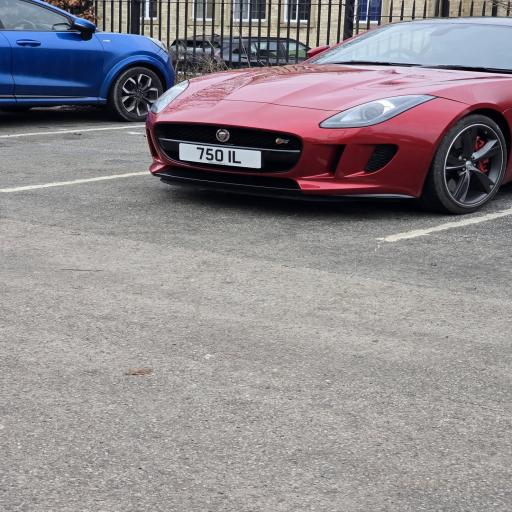numberplates: (180, 144, 261, 168)
